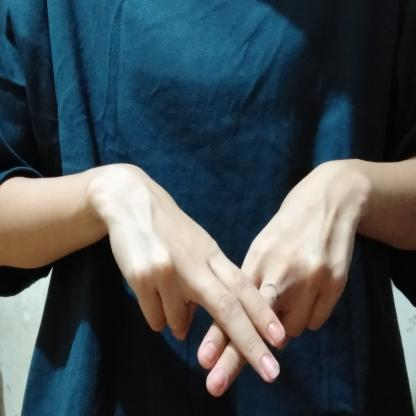father: (85, 152, 391, 404)
